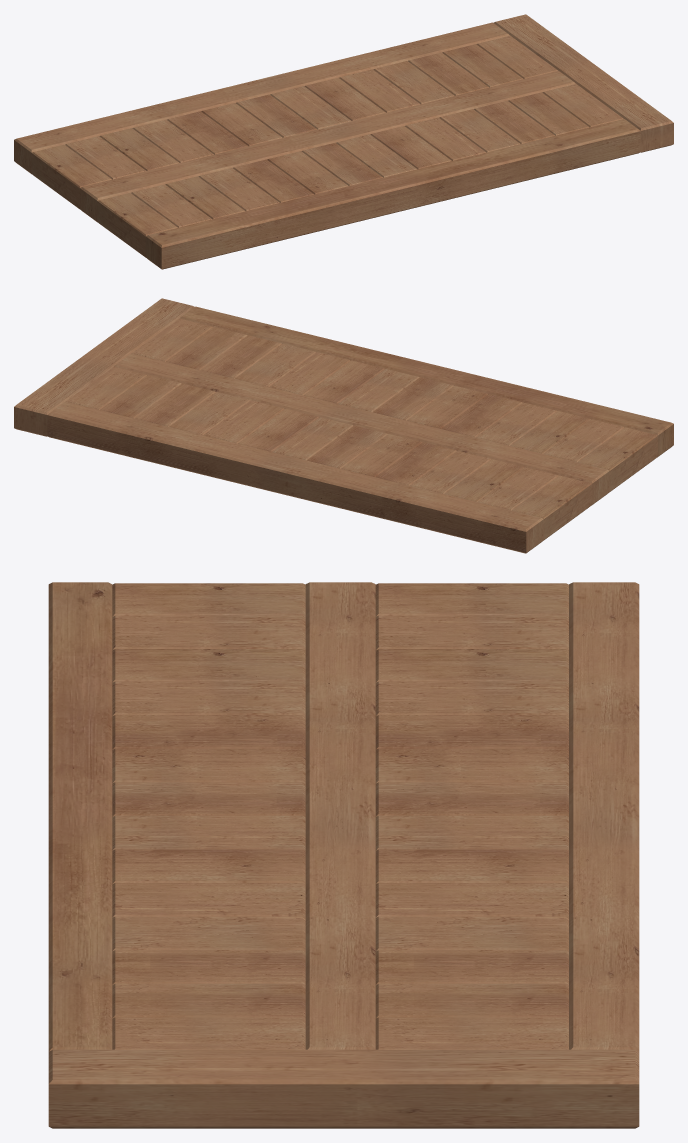
Rendered from SM_JSH_WoodFloor.fbx.
3 renders of one model, top to bottom at view 1: azimuth 30°, elevation 25°; view 2: azimuth 150°, elevation 25°; view 3: azimuth 270°, elevation 25°, orthographic. The views are drawn at different scales.
Parts seen in each view (by area): view 1: SM_JSH_WoodFloor; view 2: SM_JSH_WoodFloor; view 3: SM_JSH_WoodFloor.
Boxes of the visible parts, x1=… form: SM_JSH_WoodFloor: x1=14, y1=14, x2=673, y2=269; SM_JSH_WoodFloor: x1=14, y1=298, x2=673, y2=553; SM_JSH_WoodFloor: x1=48, y1=582, x2=639, y2=1128.
Size of the model in its own units: 261 by 130 by 11.89.
Materials: 1 (1 with a texture image).
